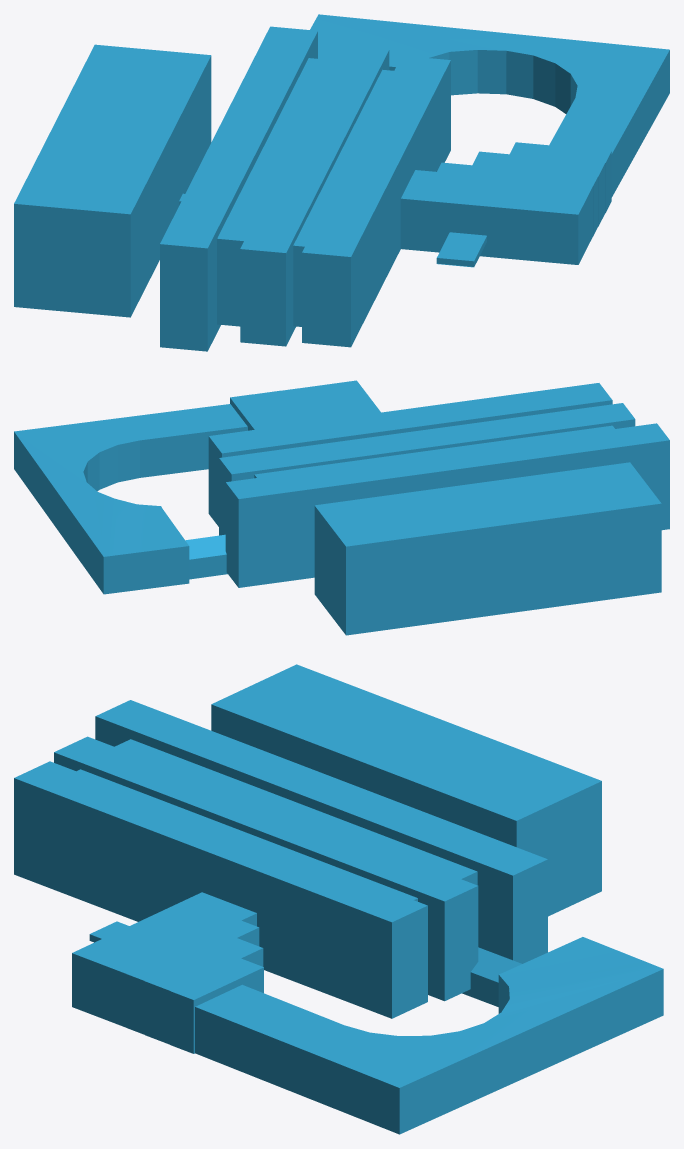
Rendered from undefined.glb.
3 renders of one model, top to bottom at view 1: azimuth 30°, elevation 25°; view 2: azimuth 150°, elevation 25°; view 3: azimuth 270°, elevation 25°, orthographic. The views are drawn at different scales.
Visible parts, largest first — view 1: Cube (2), Cube (1), Arch; view 2: Cube (2), Cube (1), Arch, Cube; view 3: Cube (2), Arch, Cube (1), Cube.
Boxes of the visible parts, x1,y1,x2,y2 form: Cube (2): (160,26,611,351); Cube (1): (14,44,211,317); Arch: (310,14,669,197); Cube (2): (208,380,669,587); Cube (1): (314,462,661,635); Arch: (14,404,247,594); Cube: (185,534,227,579); Cube (2): (14,700,547,1053); Arch: (195,937,663,1134); Cube (1): (211,664,601,916); Cube: (462,947,521,1006).
Bounding box in the file's own units: 71.95 × 10.29 × 54.32.
